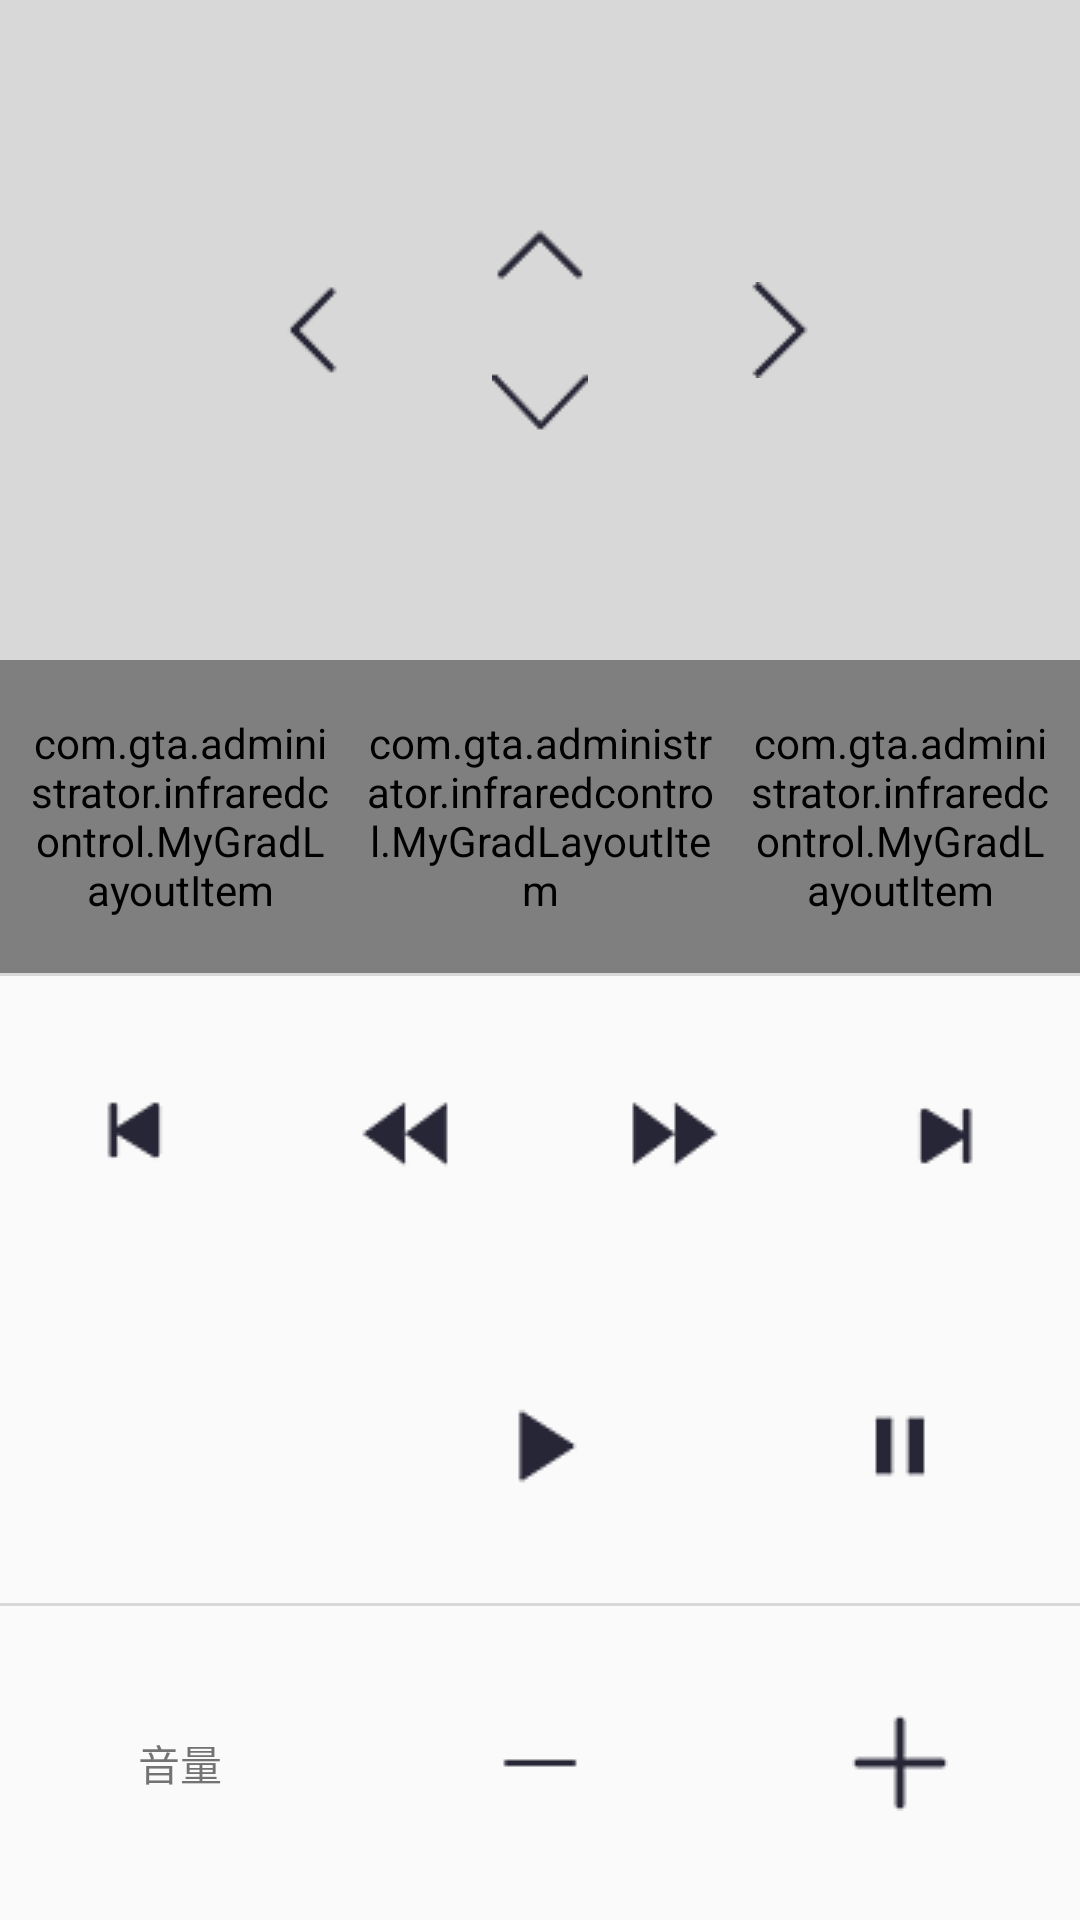

Named icons in this screenshot (1080×1920) and their bounding boxes, {"x1": x1, "y1": y1, "x2": x2, "y2": y2}:
down: {"x1": 492, "y1": 374, "x2": 588, "y2": 430}
fast forward: {"x1": 632, "y1": 1102, "x2": 718, "y2": 1166}
fast rewind: {"x1": 362, "y1": 1102, "x2": 448, "y2": 1166}
left: {"x1": 290, "y1": 287, "x2": 337, "y2": 373}
next soung: {"x1": 919, "y1": 1108, "x2": 973, "y2": 1164}
on soung: {"x1": 107, "y1": 1102, "x2": 161, "y2": 1158}
pause play: {"x1": 875, "y1": 1416, "x2": 925, "y2": 1476}
plus: {"x1": 852, "y1": 1715, "x2": 948, "y2": 1811}
right: {"x1": 752, "y1": 282, "x2": 807, "y2": 378}
start play: {"x1": 518, "y1": 1410, "x2": 576, "y2": 1482}
